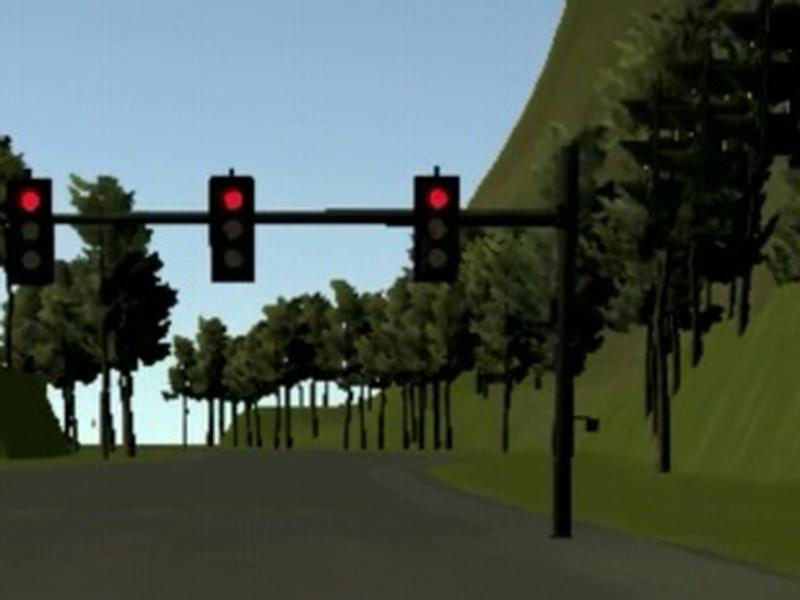Red: (414, 175, 459, 283), (7, 177, 52, 284), (210, 176, 254, 281)
